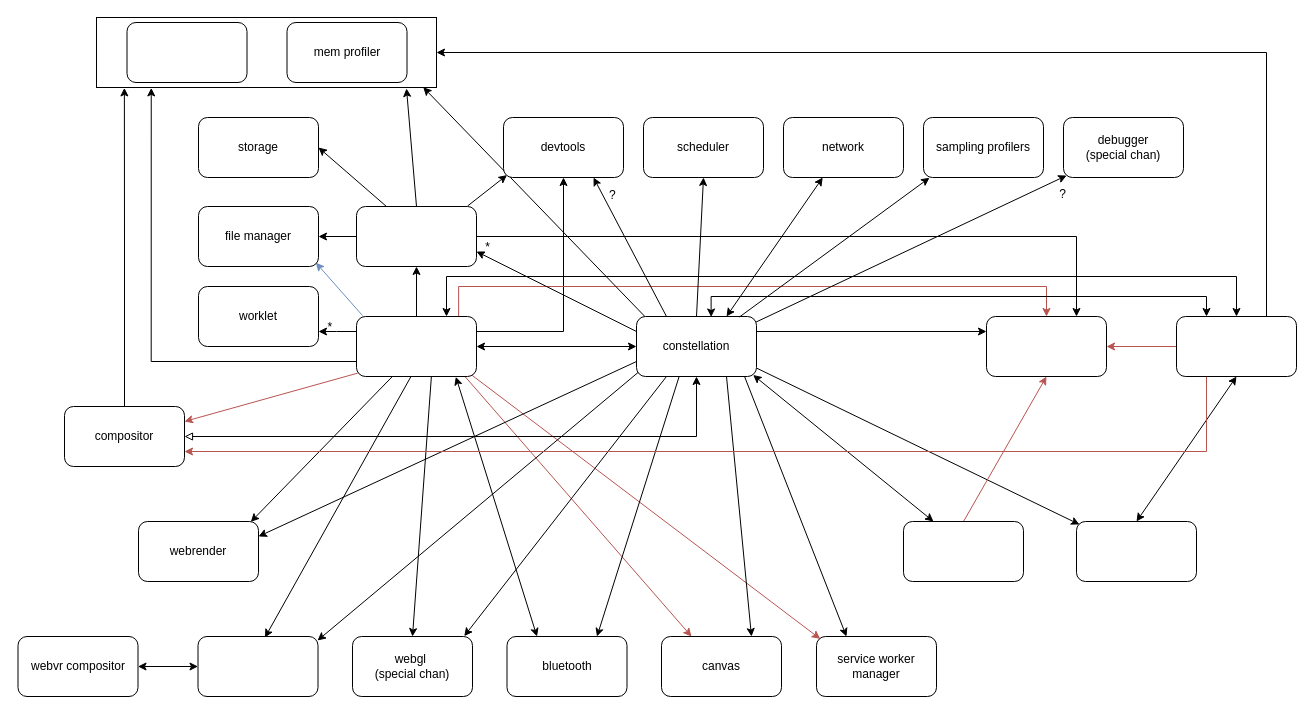
Image size: 1314x714. Some labels were removed from this diagram. Each missing label, with the centre of its shape:
"background hang monitor" belongs at (x=963, y=551).
"embedder" belongs at (x=1046, y=346).
"font cache" belongs at (x=1136, y=551).
"layout" belongs at (x=1236, y=346).
"resource (composite thread)" belongs at (x=416, y=236).
"script" belongs at (x=416, y=346).
"time profiler" belongs at (x=186, y=52).
"webvr" belongs at (x=257, y=666).
